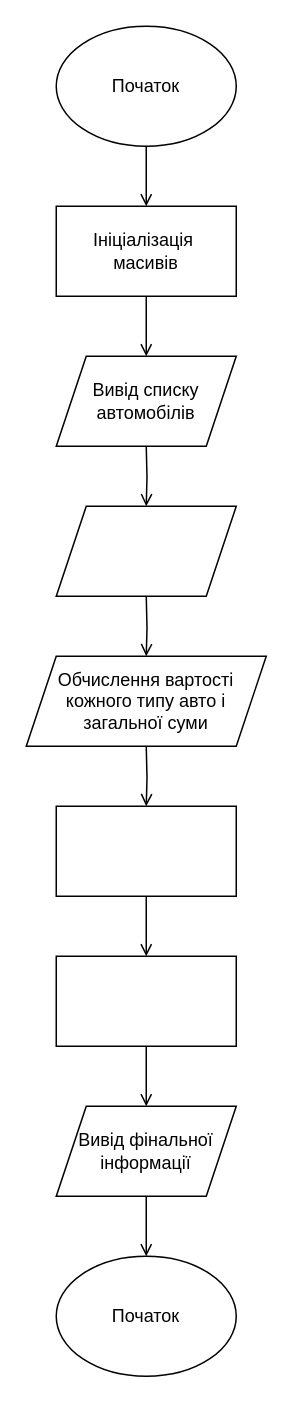
Image size: 293x1403. Some labels were removed from this diagram. The shapes that lost their labels are listed below. From the top down, each one's centre as x and y in pixels, then its label:
At (x=145, y=550): "Ввід кількості авто".
At (x=145, y=850): "Генерація знижки".
At (x=145, y=1000): "Округлення сум".
